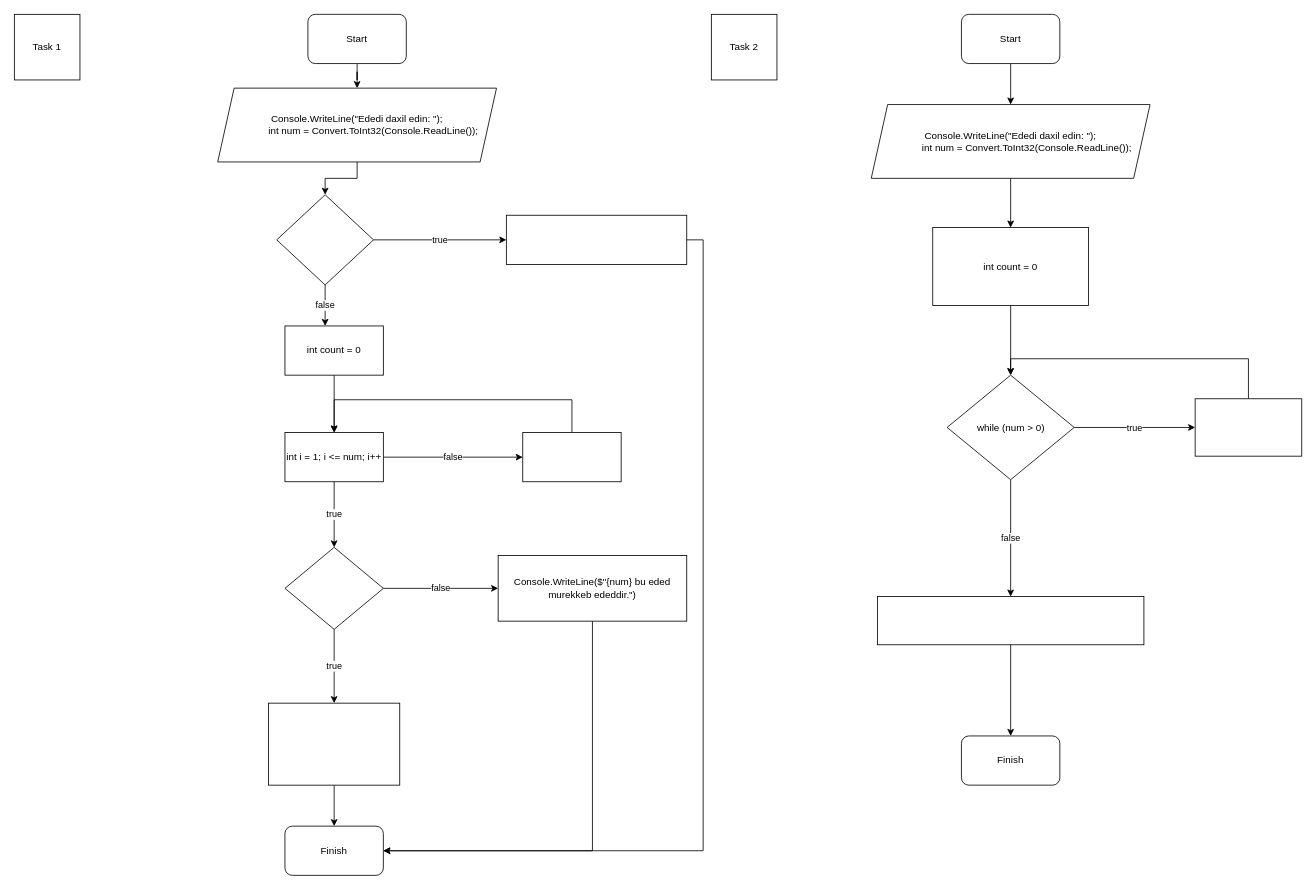
This 1316x890 diagram has some shape labels left out. Each missing label, with the centre of its shape:
Console.WriteLine("Bu eded ne sade ededdir,nede murekkeb ededdir."): point (596, 239)
Console.WriteLine($"Ededin mertebelerinin sayi: {count} ");: point (1010, 620)
Console.WriteLine($"{num} bu eded sade ededdir."): point (334, 743)
count++: point (571, 457)
if (count > 2): point (333, 588)
if (num <= 1): point (325, 239)
num /= 10; count++: point (1248, 427)
